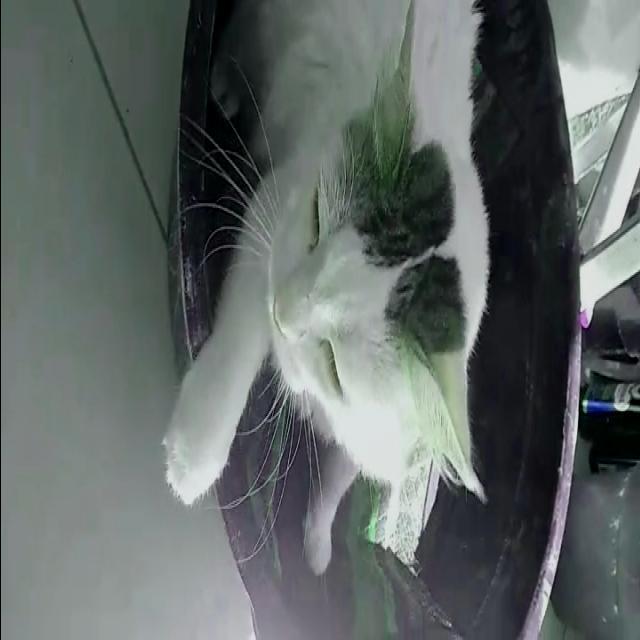Simba: (155, 31, 496, 638)
